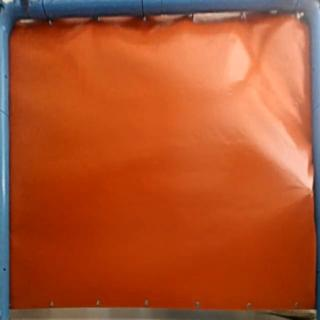Hit-hRxx: (300, 181, 316, 200)
